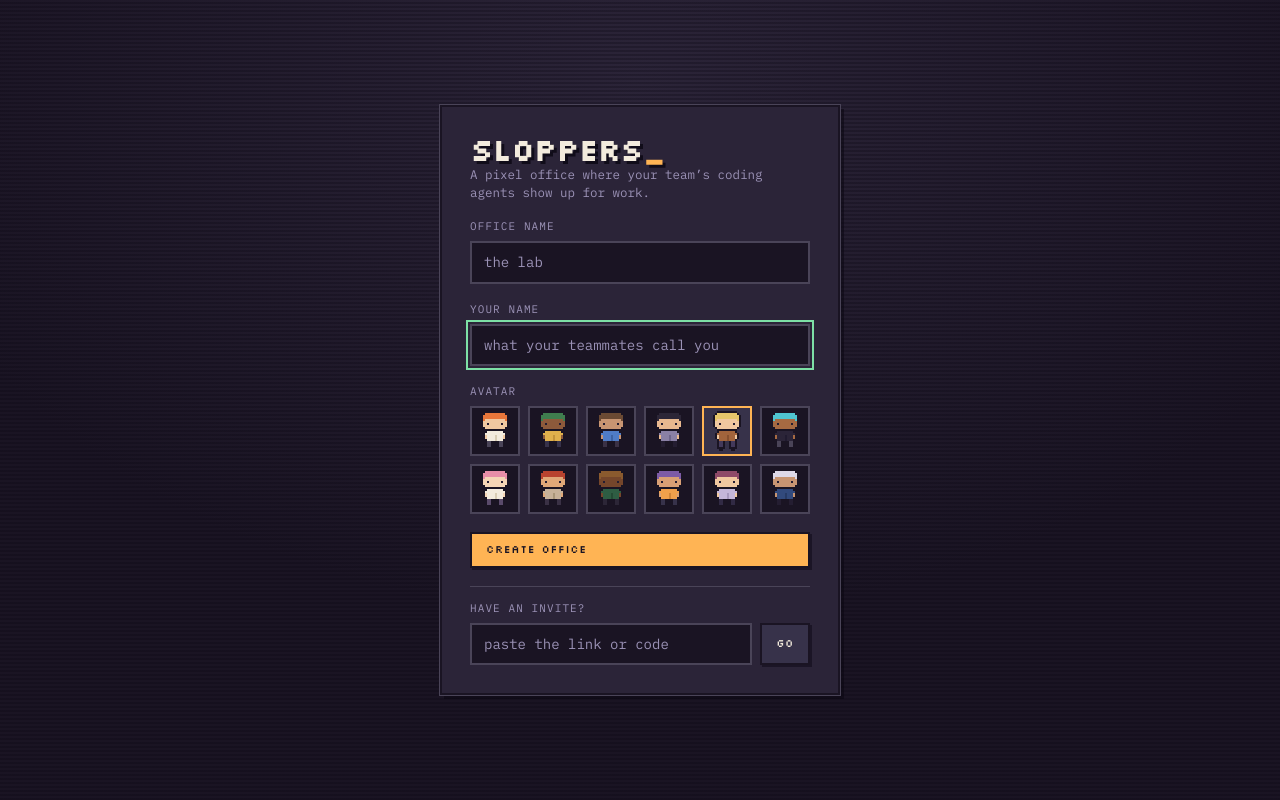
Test: JoinScreen › answers a blank office name instead of swallowing the press
Type "ridham" into the field labelled "Your name".
click(640, 345); type("ridham")  # box left=470, top=324, right=810, bottom=366
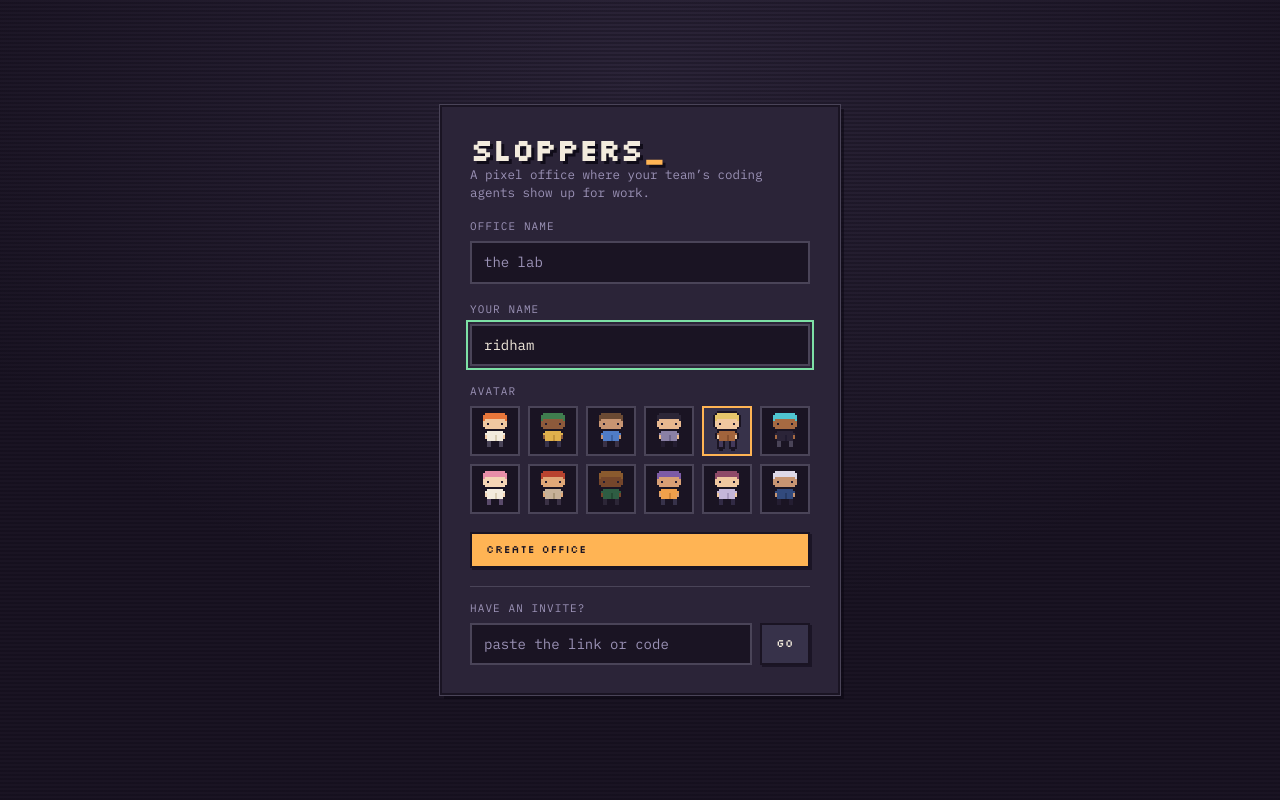
Submit the form, box left=440, top=105, right=840, bottom=695
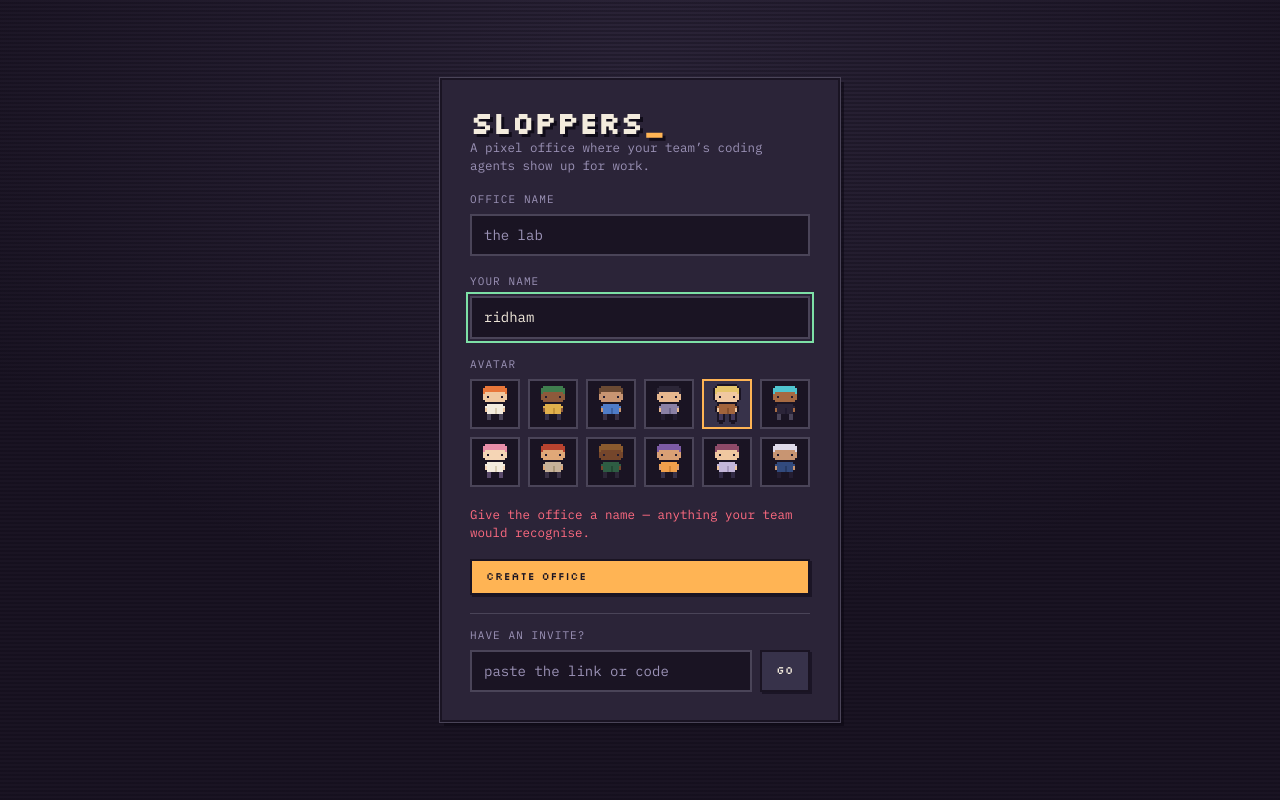
Expected: the text "Give the office a name — anything your team would recognise." is shown, left=470, top=505, right=810, bottom=541
